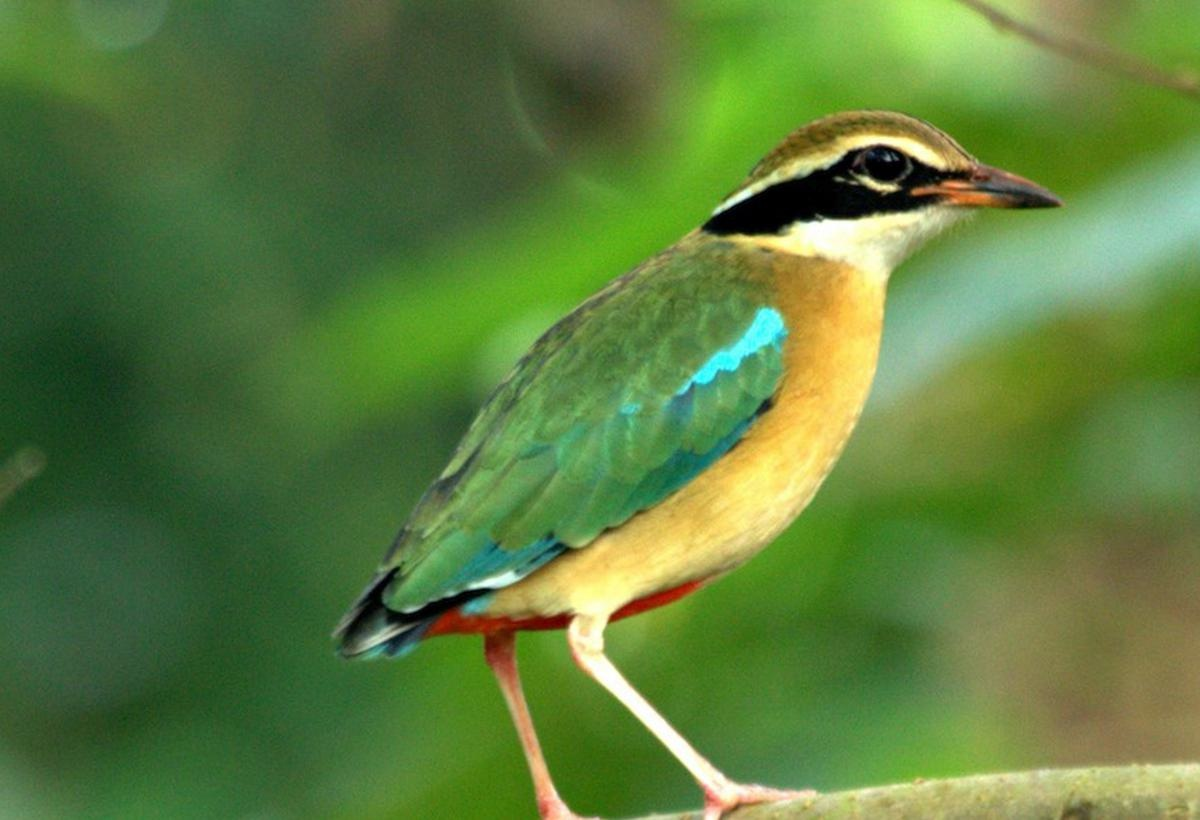pitta: (354, 67, 1099, 783)
